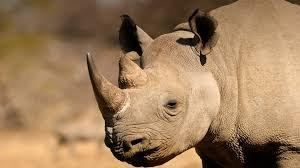Rhinoceroses: (87, 0, 299, 167)
